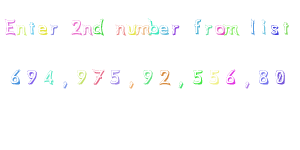,: (240, 78, 255, 93), (175, 77, 189, 93), (58, 78, 72, 93), (124, 77, 138, 92)
0: (270, 62, 292, 87)
2: (157, 63, 175, 90), (69, 17, 83, 41)
4: (41, 65, 58, 88)
5: (187, 62, 207, 88), (106, 65, 124, 88), (206, 63, 222, 88)
6: (222, 63, 240, 88), (4, 64, 24, 86)
7: (90, 66, 107, 87)
8: (254, 63, 274, 87)
9: (23, 64, 41, 88), (139, 64, 157, 88), (74, 65, 90, 87)
E: (1, 14, 17, 38)
b: (147, 14, 160, 38)
d: (93, 16, 107, 38)
e: (157, 20, 170, 40), (37, 22, 48, 38)
f: (190, 14, 205, 39)
i: (257, 18, 269, 37)
l: (246, 14, 259, 39)
m: (222, 20, 241, 39), (135, 19, 150, 39)
n: (112, 21, 126, 38), (16, 23, 28, 38), (82, 21, 93, 37)
o: (213, 21, 228, 39)
r: (168, 20, 183, 38), (48, 23, 61, 39), (203, 21, 214, 38)
s: (269, 20, 280, 39)
t: (280, 16, 295, 39), (27, 18, 37, 37)
u: (125, 20, 138, 37)
